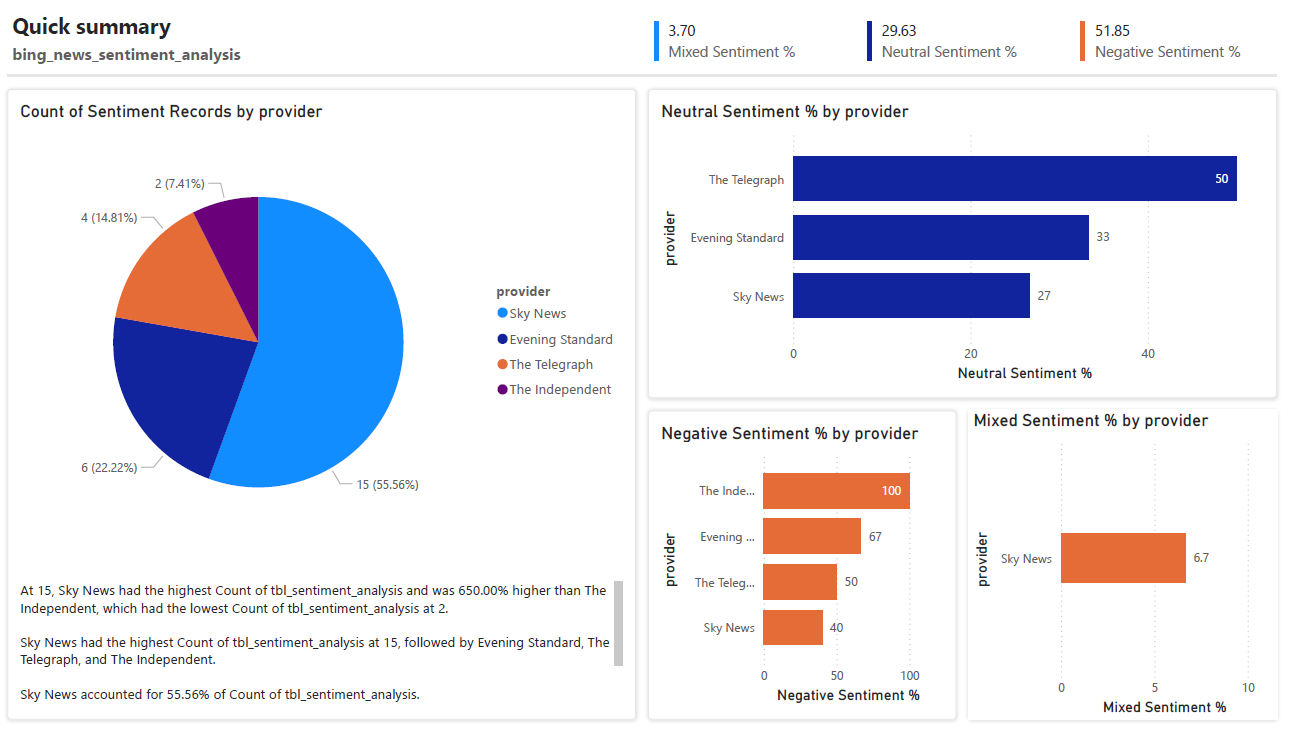

This screenshot's page, from the dashboard's own definition file:
{"tool":"powerbi","page":{"name":"Page 1","canvas":[1280,720],"ordinal":0},"visuals":[{"type":"shape","box":[12,58,1256,26],"z":0},{"type":"shape","box":[12,84,622,624],"z":1000},{"type":"shape","box":[646,84,622,306],"z":2000},{"type":"shape","box":[646,402,305,306],"z":3000},{"type":"shape","box":[963,402,305,306],"z":4000},{"type":"clusteredBarChart","fields":{"Category":["tbl_sentiment_analysis.provider"],"Y":["tbl_sentiment_analysis.Negative Sentiment %"]},"box":[654,414,289,282],"z":5000},{"type":"clusteredBarChart","fields":{"Category":["tbl_sentiment_analysis.provider"],"Y":["tbl_sentiment_analysis.Neutral Sentiment %"]},"box":[654,96,606,282],"z":6000},{"type":"textbox","box":[20,566,606,129],"z":7000},{"type":"pieChart","fields":{"Category":["tbl_sentiment_analysis.provider"],"Y":["Count(tbl_sentiment_analysis)"]},"box":[20,96,606,458],"z":8000},{"type":"multiRowCard","fields":{"Values":["tbl_sentiment_analysis.Negative Sentiment %"]},"box":[1069,12,199,50],"z":9000},{"type":"multiRowCard","fields":{"Values":["tbl_sentiment_analysis.Neutral Sentiment %"]},"box":[858,12,199,50],"z":10000},{"type":"multiRowCard","fields":{"Values":["tbl_sentiment_analysis.Mixed Sentiment %"]},"box":[647,12,199,50],"z":11000},{"type":"textbox","box":[12,33,306,32],"z":12000},{"type":"textbox","box":[12,2,306,39],"z":13000},{"type":"clusteredBarChart","fields":{"Category":["tbl_sentiment_analysis.provider"],"Y":["tbl_sentiment_analysis.Mixed Sentiment %"]},"box":[962.9,401.4,305.7,307.1],"z":14000}]}

Visuals, with their boxes in screenshot pixels (x1, y1, x2, y2), scaled from the page's 1280x720 canvas onto the 1289x733 screenshot:
shape: <box>12,59,1277,86</box>
shape: <box>12,86,638,721</box>
shape: <box>651,86,1277,397</box>
shape: <box>651,409,958,721</box>
shape: <box>970,409,1277,721</box>
clusteredBarChart - tbl_sentiment_analysis.provider x tbl_sentiment_analysis.Negative Sentiment %: <box>659,421,950,709</box>
clusteredBarChart - tbl_sentiment_analysis.provider x tbl_sentiment_analysis.Neutral Sentiment %: <box>659,98,1269,385</box>
textbox: <box>20,576,630,708</box>
pieChart - tbl_sentiment_analysis.provider x Count(tbl_sentiment_analysis): <box>20,98,630,564</box>
multiRowCard - tbl_sentiment_analysis.Negative Sentiment %: <box>1077,12,1277,63</box>
multiRowCard - tbl_sentiment_analysis.Neutral Sentiment %: <box>864,12,1064,63</box>
multiRowCard - tbl_sentiment_analysis.Mixed Sentiment %: <box>652,12,852,63</box>
textbox: <box>12,34,320,66</box>
textbox: <box>12,2,320,42</box>
clusteredBarChart - tbl_sentiment_analysis.provider x tbl_sentiment_analysis.Mixed Sentiment %: <box>970,409,1278,721</box>
